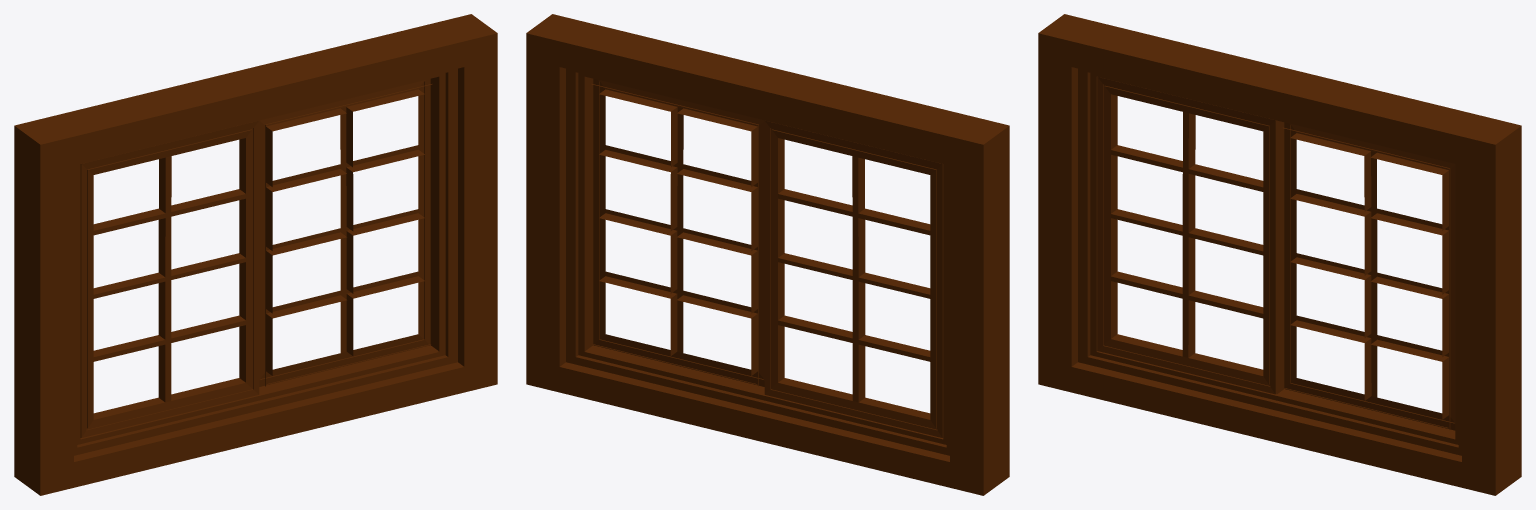
File: c192dca1-715c-4a12-ab93-cd921d6c572d.glb
3 renders of one model, left to right at view 1: azimuth 30°, elevation 25°; view 2: azimuth 150°, elevation 25°; view 3: azimuth 330°, elevation 25°, orthographic.
Visible parts, largest first — view 1: Node; view 2: Node; view 3: Node.
Boxes of the visible parts, <box> form: Node: <box>14,14,497,495</box>; Node: <box>526,14,1009,495</box>; Node: <box>1038,14,1521,495</box>.
Bounding box in the file's own units: 29.43 × 21.6 × 2.93.
